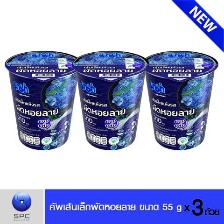paper_cup: (68, 45, 152, 155), (0, 44, 83, 155), (138, 45, 221, 155)
